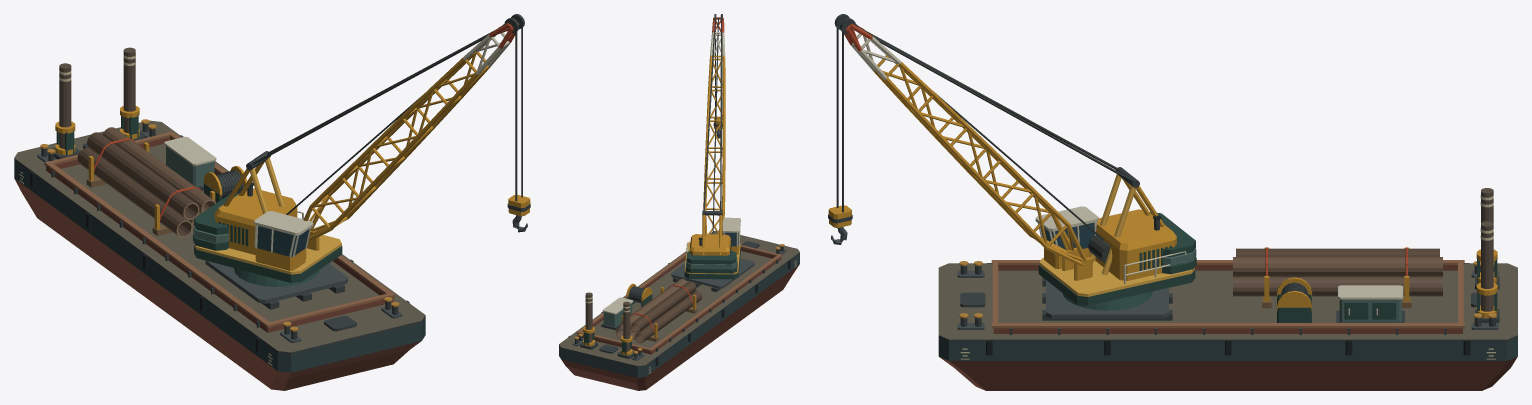
The model's file is barge_construction_mid.glb.
3 renders of one model, left to right at view 1: azimuth 30°, elevation 25°; view 2: azimuth 150°, elevation 25°; view 3: azimuth 270°, elevation 25°, orthographic. The views are drawn at different scales.
Visible parts, largest first — view 1: Steel scow, CraneSlew, Work deck and stores, Boom and running gear, Pile4, Pile1, Pile5, HoistLines, HookBlock; view 2: Steel scow, Work deck and stores, Boom and running gear, CraneSlew, Pile4, Pile1, Pile5; view 3: Steel scow, CraneSlew, Work deck and stores, Boom and running gear, Pile5, Pile3, Pile4, HoistLines, HookBlock.
Part boxes in pixels (bbox=[...]): Steel scow: bbox=[14, 119, 425, 390]; CraneSlew: bbox=[193, 151, 342, 282]; Work deck and stores: bbox=[51, 47, 347, 309]; Boom and running gear: bbox=[252, 14, 524, 241]; Pile4: bbox=[87, 132, 199, 219]; Pile1: bbox=[77, 148, 192, 237]; Pile5: bbox=[102, 127, 215, 213]; HoistLines: bbox=[515, 27, 522, 201]; HookBlock: bbox=[507, 194, 530, 232]; Steel scow: bbox=[559, 230, 799, 390]; Work deck and stores: bbox=[580, 258, 754, 358]; Boom and running gear: bbox=[703, 14, 725, 234]; CraneSlew: bbox=[684, 210, 740, 279]; Pile4: bbox=[630, 281, 696, 332]; Pile1: bbox=[634, 290, 701, 343]; Pile5: bbox=[620, 278, 687, 329]; Steel scow: bbox=[938, 260, 1517, 390]; CraneSlew: bbox=[1035, 167, 1196, 305]; Work deck and stores: bbox=[1042, 188, 1499, 322]; Boom and running gear: bbox=[834, 14, 1133, 265]; Pile5: bbox=[1233, 257, 1442, 276]; Pile3: bbox=[1233, 276, 1442, 296]; Pile4: bbox=[1236, 248, 1439, 256]; HoistLines: bbox=[836, 28, 843, 212]; HookBlock: bbox=[828, 205, 852, 244].
Bounding box in the file's own units: 10.2 × 18.31 × 28.58.
